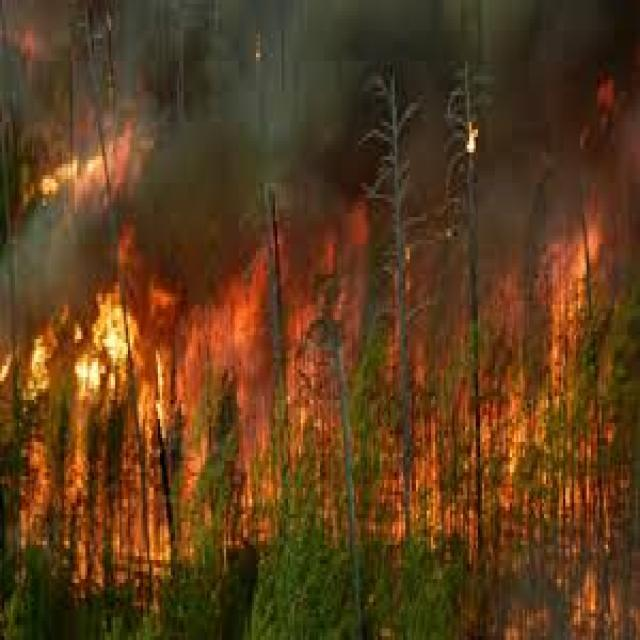Fire: (163, 267, 450, 566), (454, 259, 640, 639), (22, 409, 242, 595), (44, 119, 142, 203), (56, 293, 136, 392)
Smoke: (212, 0, 471, 203), (454, 0, 592, 236), (138, 20, 242, 264), (4, 213, 110, 310)
